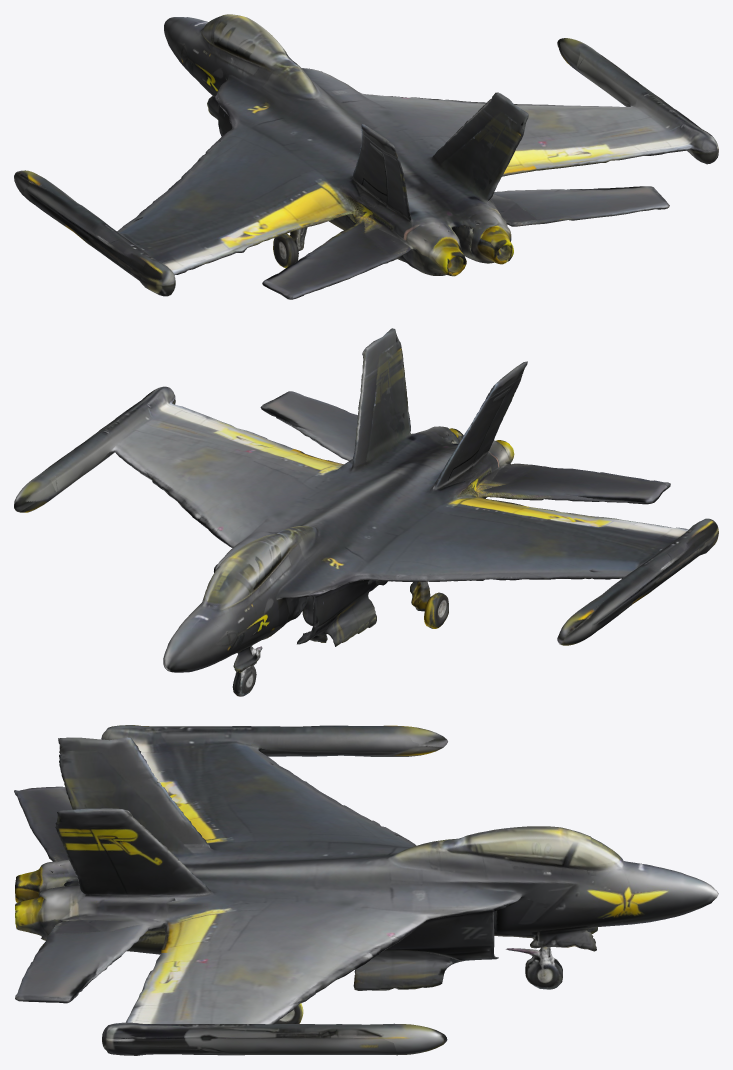
The model's file is Fighter2.glb.
3 views of the same model, one above another, from view 1: azimuth 30°, elevation 25°; view 2: azimuth 150°, elevation 25°; view 3: azimuth 270°, elevation 25° (orthographic). The views are drawn at different scales.
Parts seen in each view (by area): view 1: Mesh_0, jet, missile, cockpit; view 2: Mesh_0, missile, cockpit; view 3: Mesh_0, missile, cockpit, jet.
Boxes of the visible parts, box(x1,y1,x2,y2) form: Mesh_0: box(20, 15, 718, 299); jet: box(430, 230, 513, 276); missile: box(14, 38, 596, 194); cockpit: box(201, 14, 237, 42); Mesh_0: box(39, 328, 718, 696); missile: box(14, 472, 592, 645); cockpit: box(205, 561, 262, 610); Mesh_0: box(14, 725, 718, 1055); missile: box(376, 726, 447, 1055); cockpit: box(562, 829, 622, 876); jet: box(15, 871, 41, 932).
Size of the model in its own units: 2 by 0.6477 by 1.91.
Materials: 1 (1 with a texture image).
